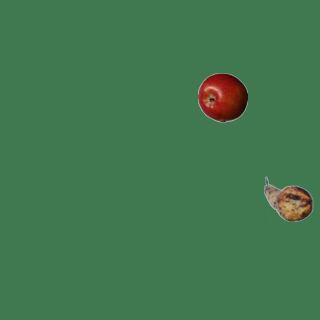Apple Braeburn: (197, 72, 247, 122)
Pear Abate: (263, 174, 313, 224)
